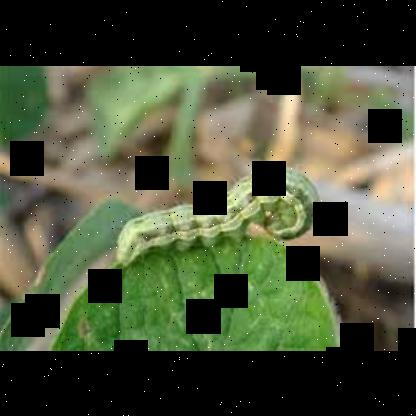oruga: (122, 140, 320, 264)
